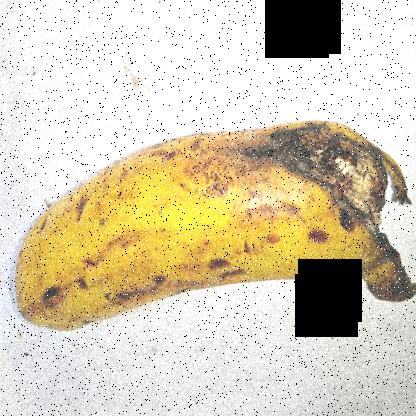ripe: (6, 126, 266, 360)
rotten: (233, 86, 415, 306)
